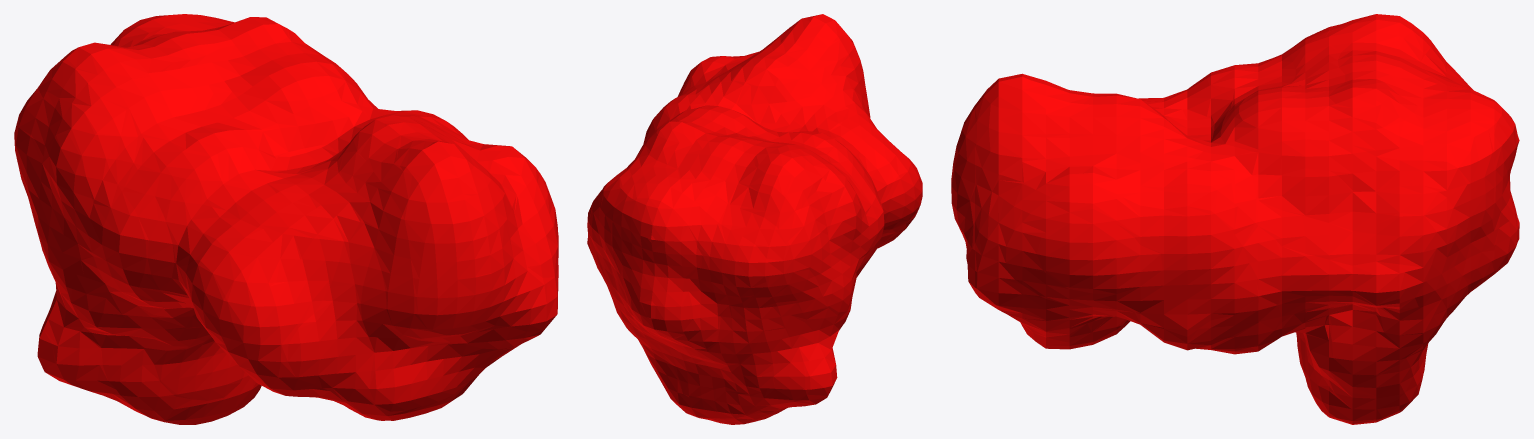
File: yigB_coarse.dae
3 renders of one model, left to right at view 1: azimuth 30°, elevation 25°; view 2: azimuth 150°, elevation 25°; view 3: azimuth 270°, elevation 25°, orthographic. The views are drawn at different scales.
Visible parts, largest first — view 1: yigB; view 2: yigB; view 3: yigB.
Part boxes in pixels (x1,y1,x2,y2): yigB: (14,14,558,424); yigB: (587,14,922,424); yigB: (951,14,1519,424).
Size of the model in its own units: 43.64 by 45.29 by 63.23.
